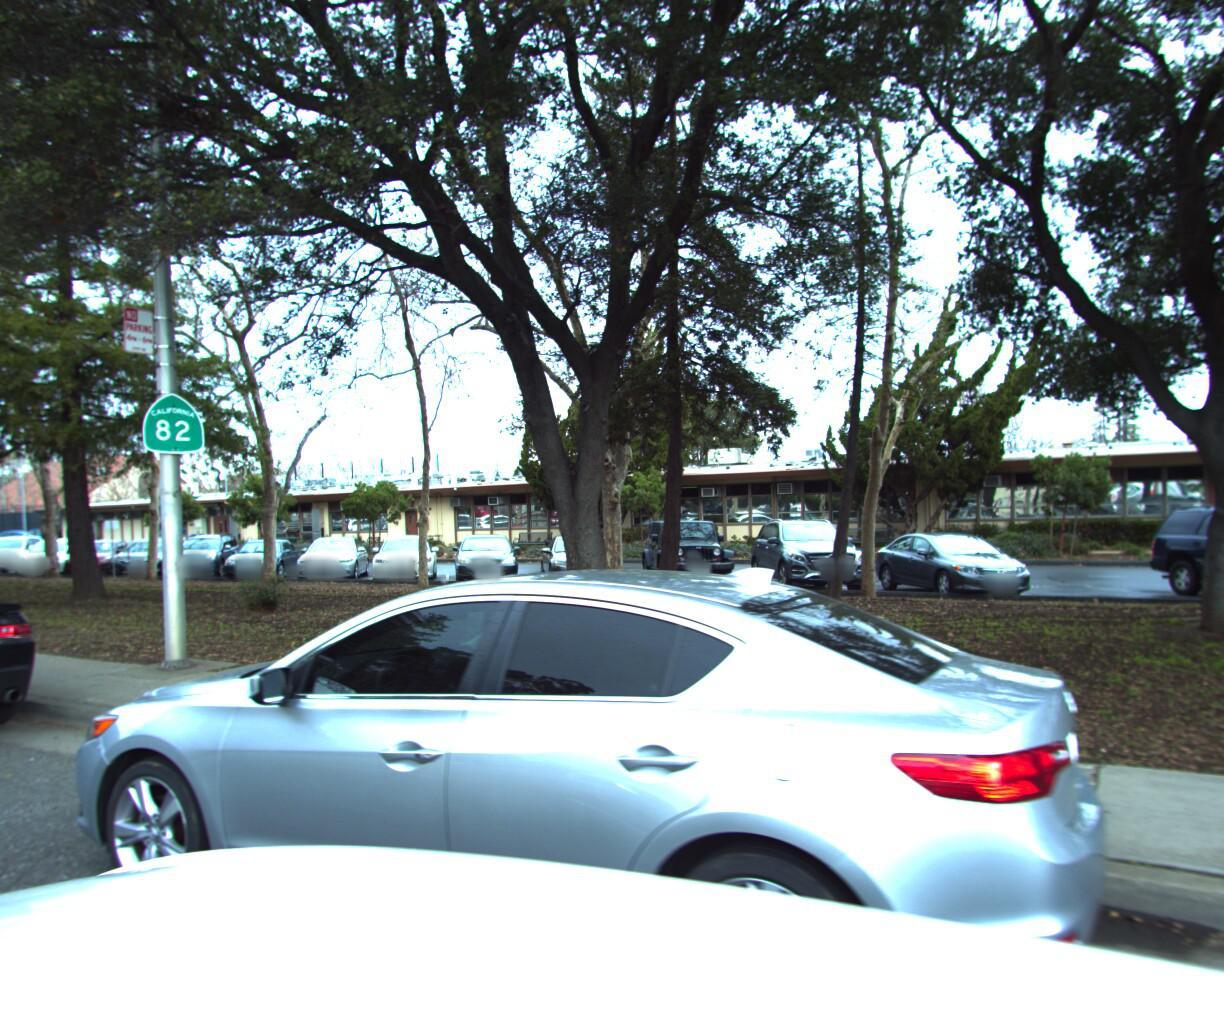car: (0, 552, 1135, 1024), (0, 550, 72, 812)
